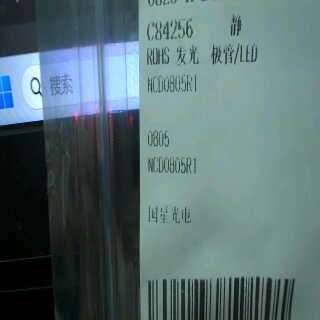LED: (172, 41, 262, 72)
